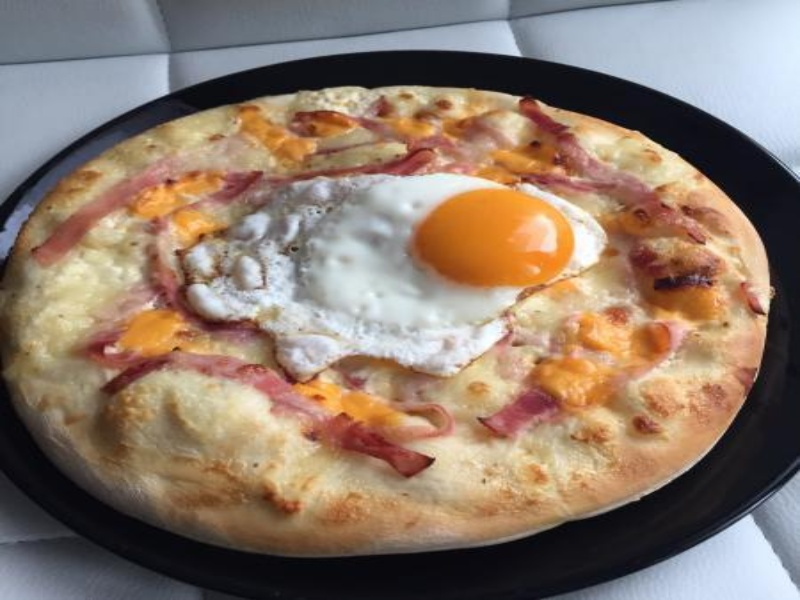oeuf: (385, 174, 607, 313)
